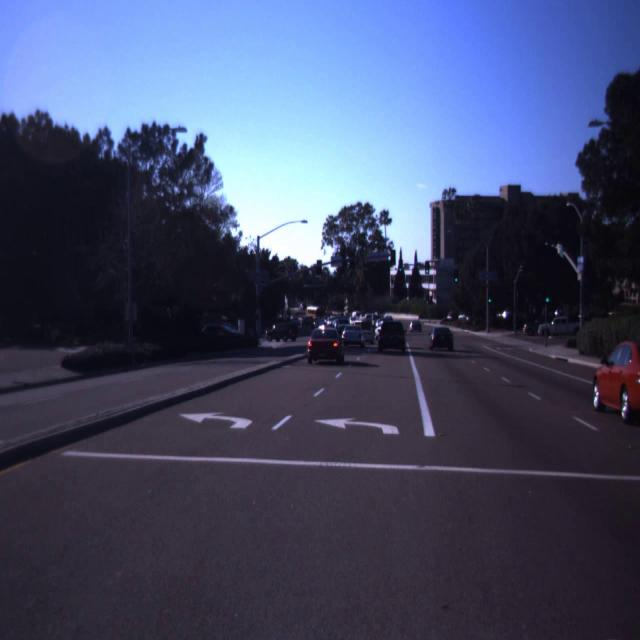go: (426, 270, 428, 273), (488, 300, 491, 302), (455, 279, 457, 281), (546, 299, 548, 301)
go traffic light: (453, 269, 459, 283), (544, 289, 550, 303), (424, 261, 430, 274)
